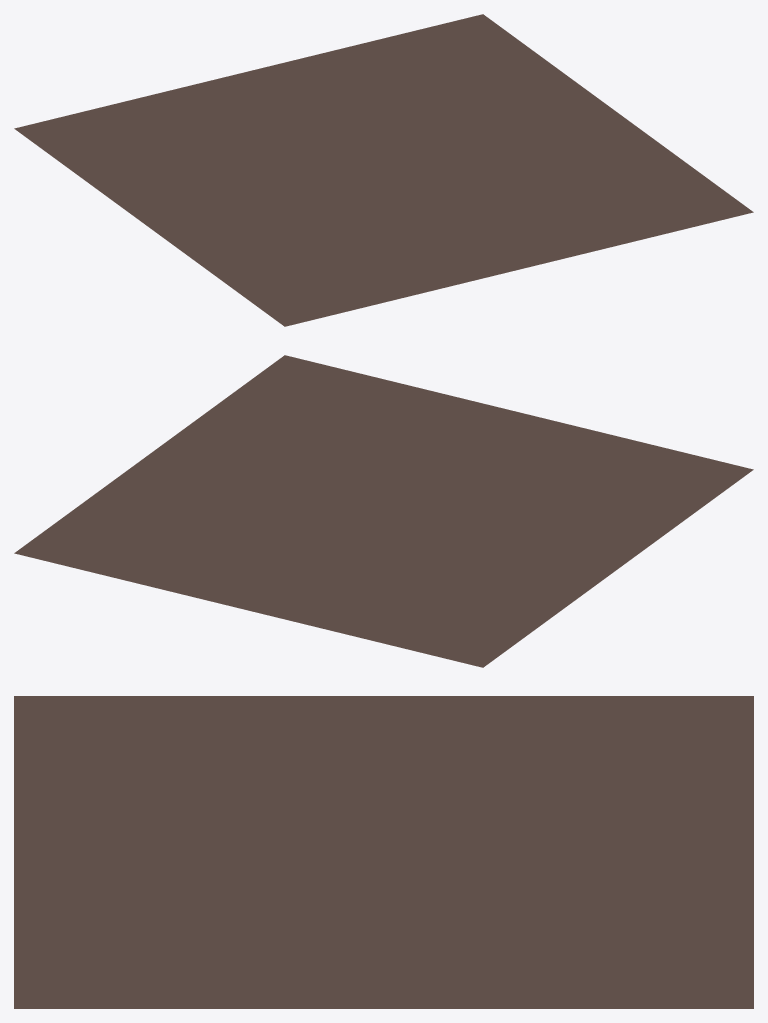
The model's file is cell_091.obj.
3 views of the same model, one above another, from view 1: azimuth 30°, elevation 25°; view 2: azimuth 150°, elevation 25°; view 3: azimuth 270°, elevation 25° (orthographic). The views are drawn at different scales.
Bounding box in the file's own units: 1 × 0 × 1.
